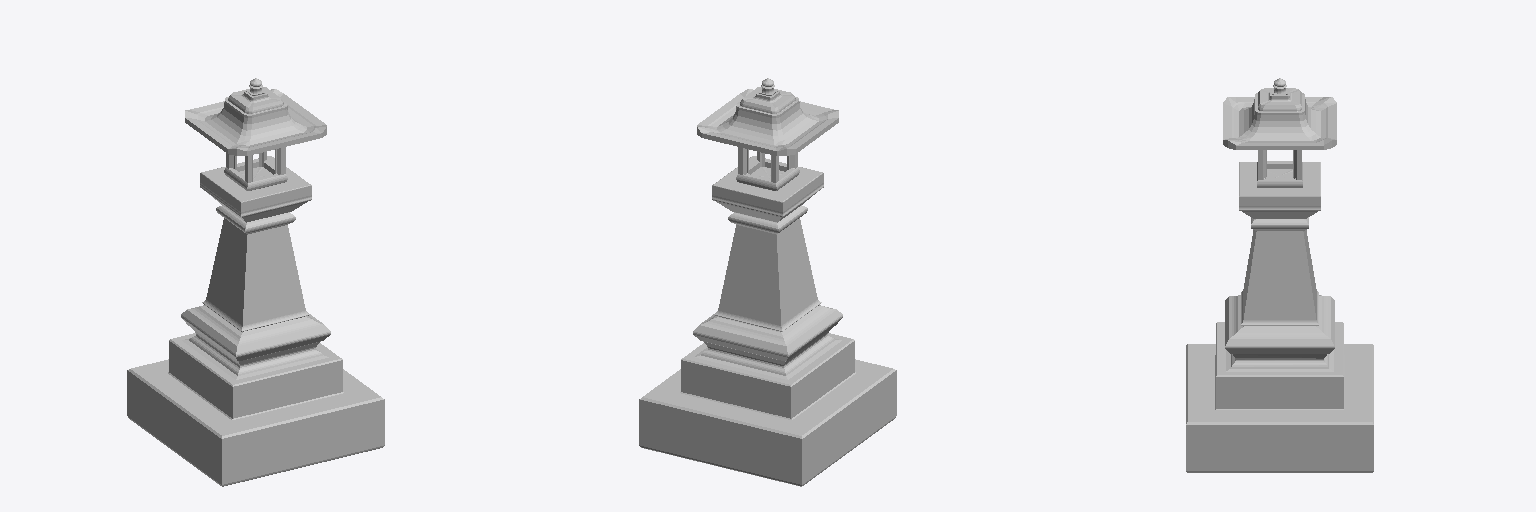
File: lantern.obj
The picture shows the model from 3 angles: view 1: azimuth 30°, elevation 25°; view 2: azimuth 150°, elevation 25°; view 3: azimuth 270°, elevation 25°; orthographic projection.
Visible parts, largest first — view 1: Stone_Lantern; view 2: Stone_Lantern; view 3: Stone_Lantern.
Boxes of the visible parts, x1,y1,x2,y2 form: Stone_Lantern: [127, 78, 384, 486]; Stone_Lantern: [639, 78, 896, 486]; Stone_Lantern: [1186, 78, 1373, 472].
Size of the model in its own units: 0.5 by 1.04 by 0.5.